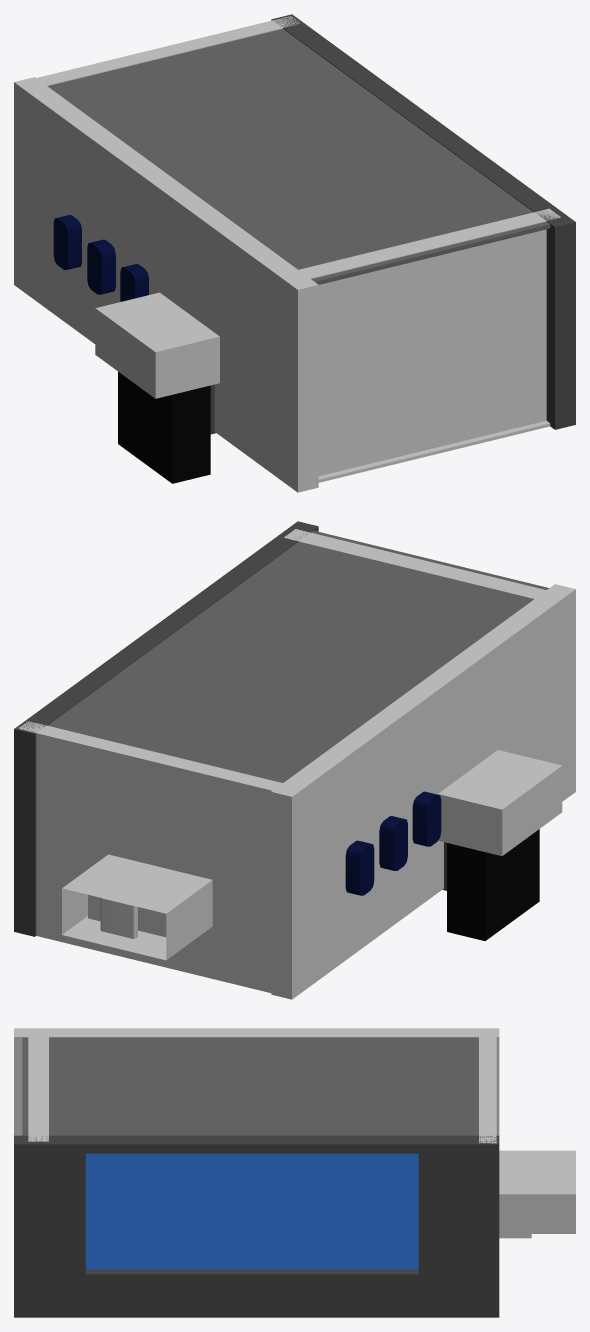
File: LabOnlyV1.fbx
3 renders of one model, top to bottom at view 1: azimuth 30°, elevation 25°; view 2: azimuth 150°, elevation 25°; view 3: azimuth 270°, elevation 25°, orthographic. The views are drawn at different scales.
Visible parts, largest first — view 1: Ceiling, BWall2, LWall, FrontWindowFrame, pCube27, pCube24, BWall3, Floor, pCube6, pCube33, pCube32; view 2: Ceiling, BWall2, BWall3, pCube30, FrontWindowFrame, pCube27, pCube24, LWall, pCube32, pCube33, pCube6, B_HD4; view 3: FrontWindowFrame, Ceiling, Glass, pCube30, BWall2, LWall, BWall3.
Boxes of the visible parts, x1,y1,x2,y2 form: Ceiling: (48,29,550,284); BWall2: (14,77,318,492); LWall: (281,208,560,475); FrontWindowFrame: (271,14,575,429); pCube27: (95,292,219,398); pCube24: (118,371,210,483); BWall3: (30,16,299,88); Floor: (318,420,550,482); pCube6: (87,239,115,294); pCube33: (53,215,81,269); pCube32: (120,264,148,301); Ceiling: (48,530,549,782); BWall2: (271,584,575,999); BWall3: (18,721,296,992); pCube30: (62,854,212,960); FrontWindowFrame: (14,521,318,936); pCube27: (437,750,562,855); pCube24: (447,829,539,940); LWall: (284,529,563,602); pCube32: (412,791,441,846); pCube33: (345,840,374,895); pCube6: (379,816,407,870); B_HD4: (100,898,137,938); FrontWindowFrame: (14,1135,499,1317); Ceiling: (22,1037,478,1135); Glass: (85,1153,418,1269); pCube30: (499,1150,575,1233); BWall2: (14,1028,499,1135); LWall: (28,1029,48,1141); BWall3: (479,1031,496,1143).
Size of the model in its own units: 257 by 181 by 428.
